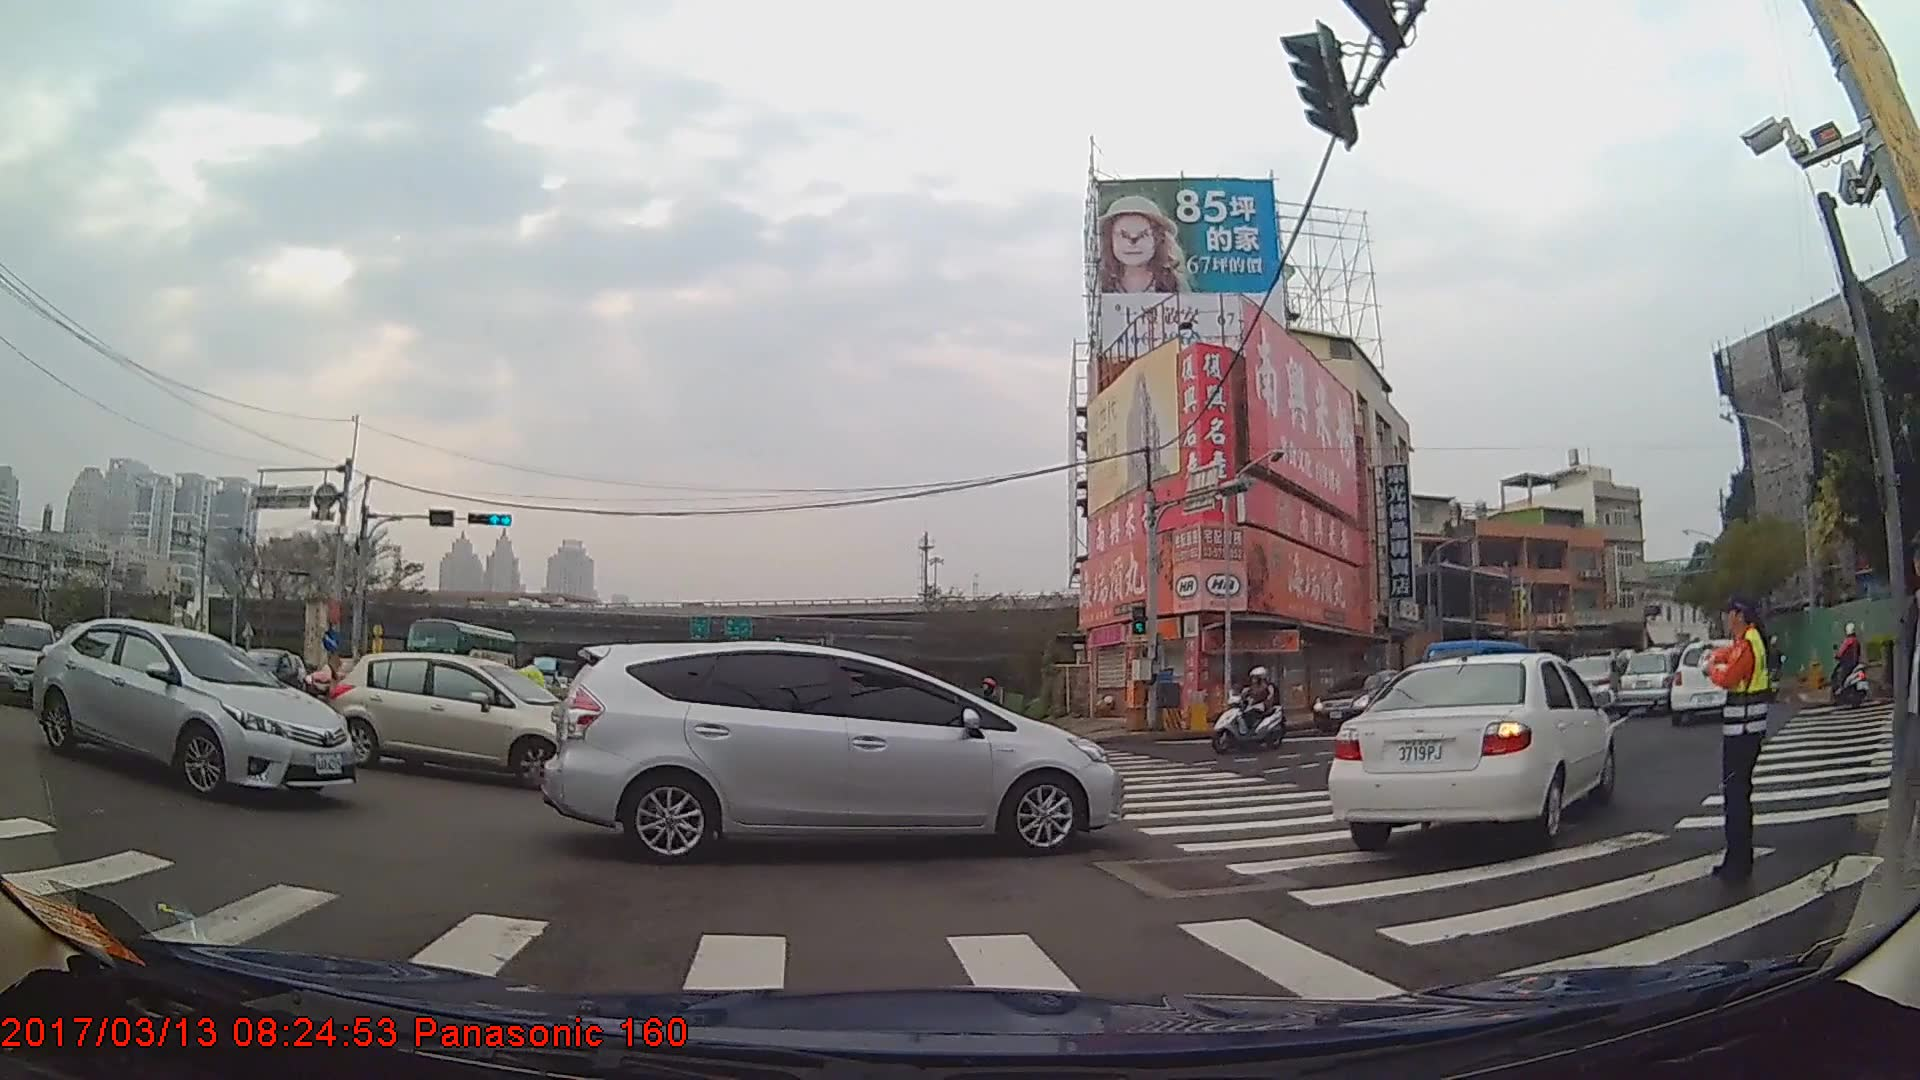pedestrian: (1702, 587, 1774, 884)
rider: (1212, 666, 1288, 754), (1828, 623, 1873, 707)
vehicle: (537, 639, 1123, 863), (25, 618, 354, 805), (1325, 648, 1618, 856), (325, 649, 596, 787), (404, 619, 516, 701), (1667, 637, 1749, 729), (1311, 670, 1410, 731), (1614, 647, 1689, 718)
